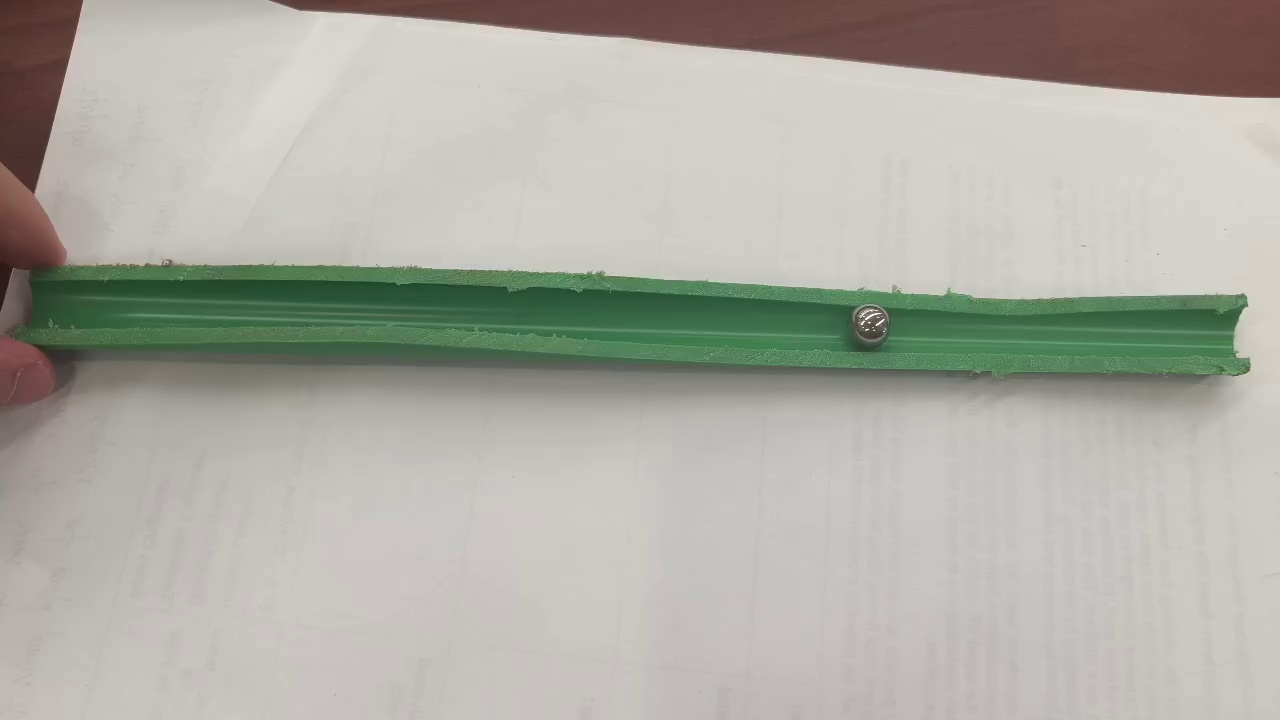ball: (853, 305, 889, 343)
